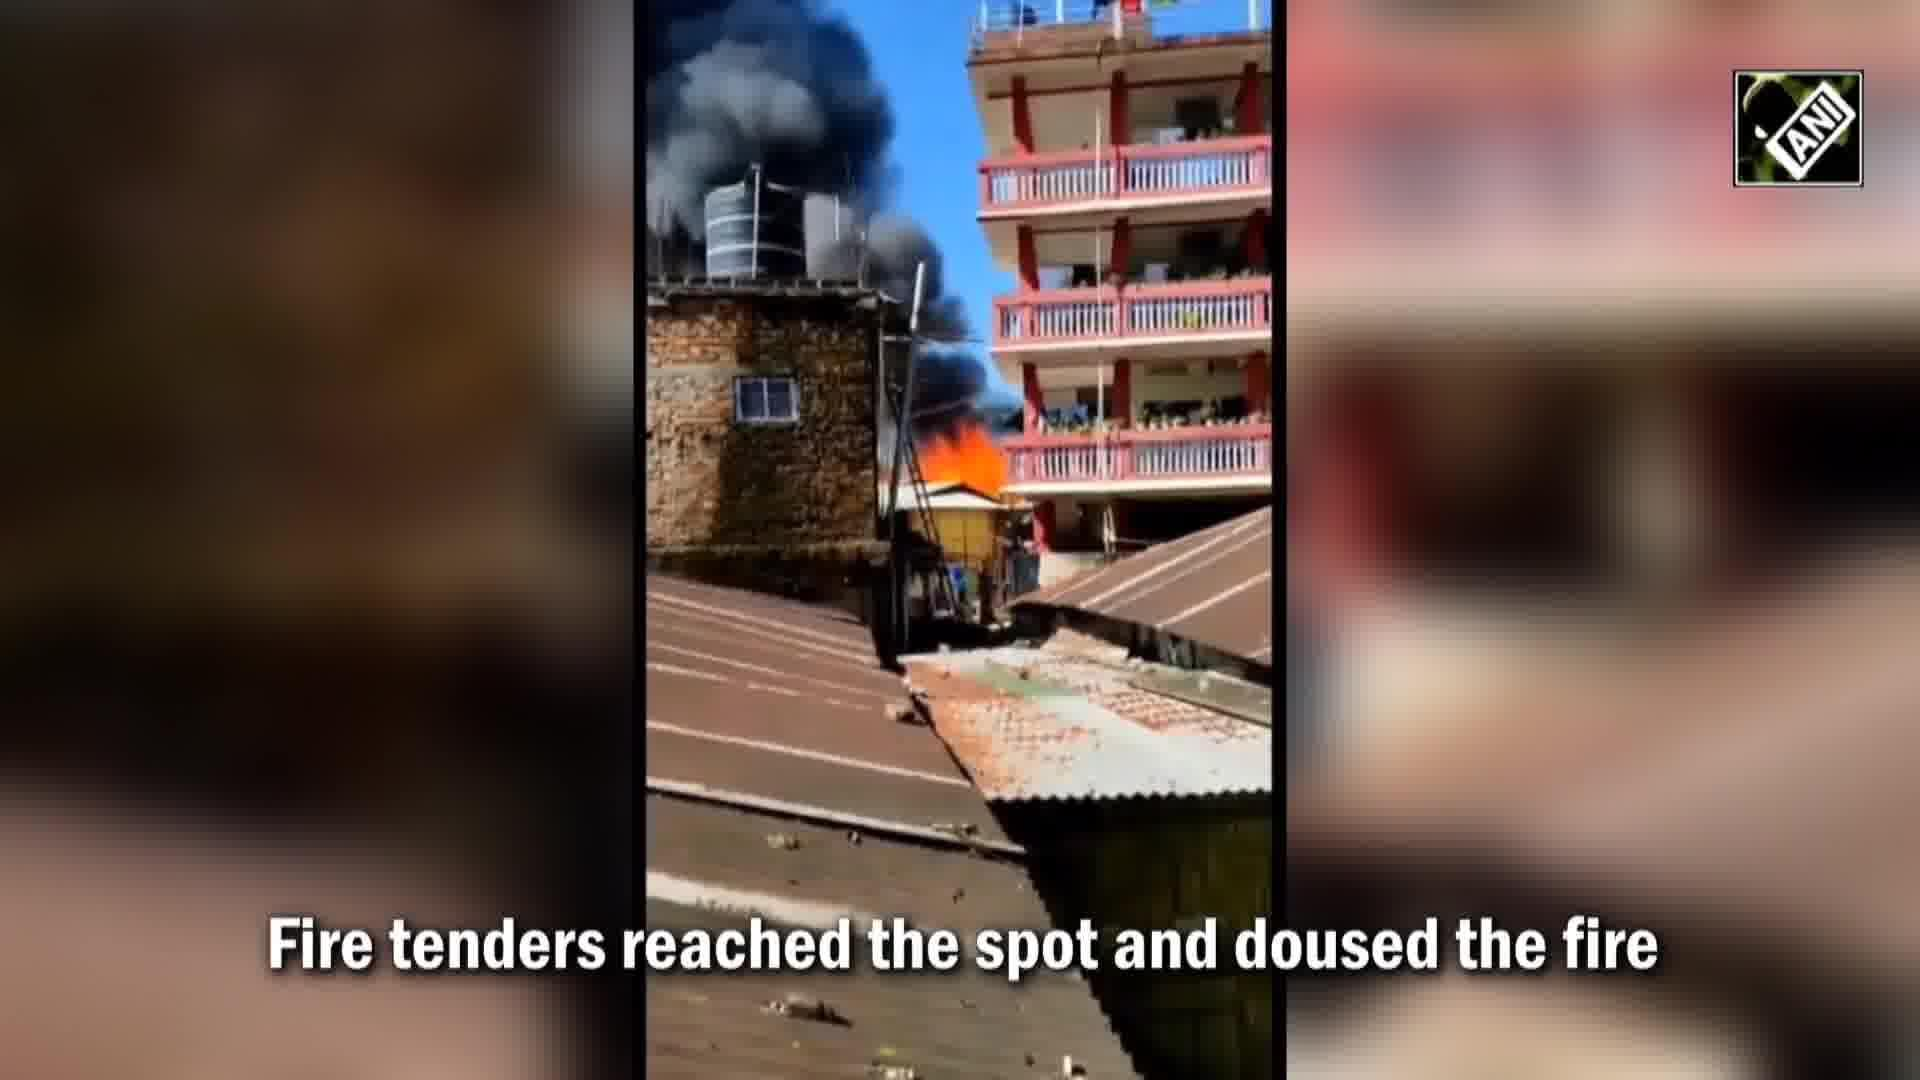fire: (923, 426, 1010, 484)
smoke: (646, 3, 869, 177), (876, 199, 981, 397)
